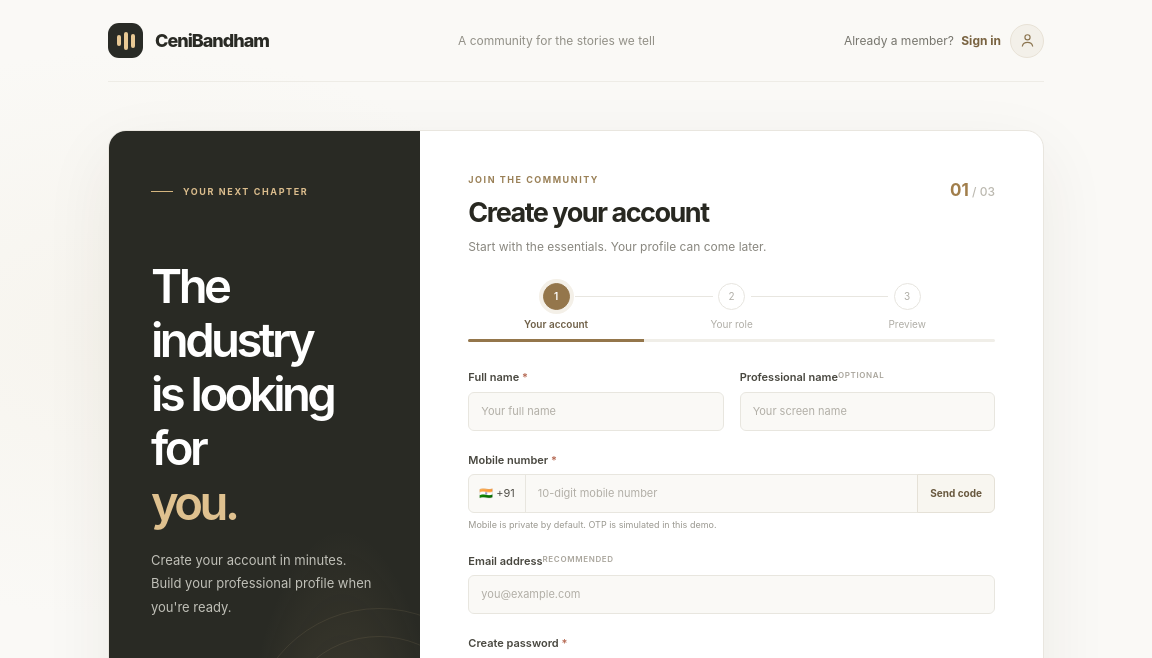
App routing › navigates from registration to login
Step 1. Click the link "Already a member? Sign in" → (944,40), box left=844, top=24, right=1044, bottom=58
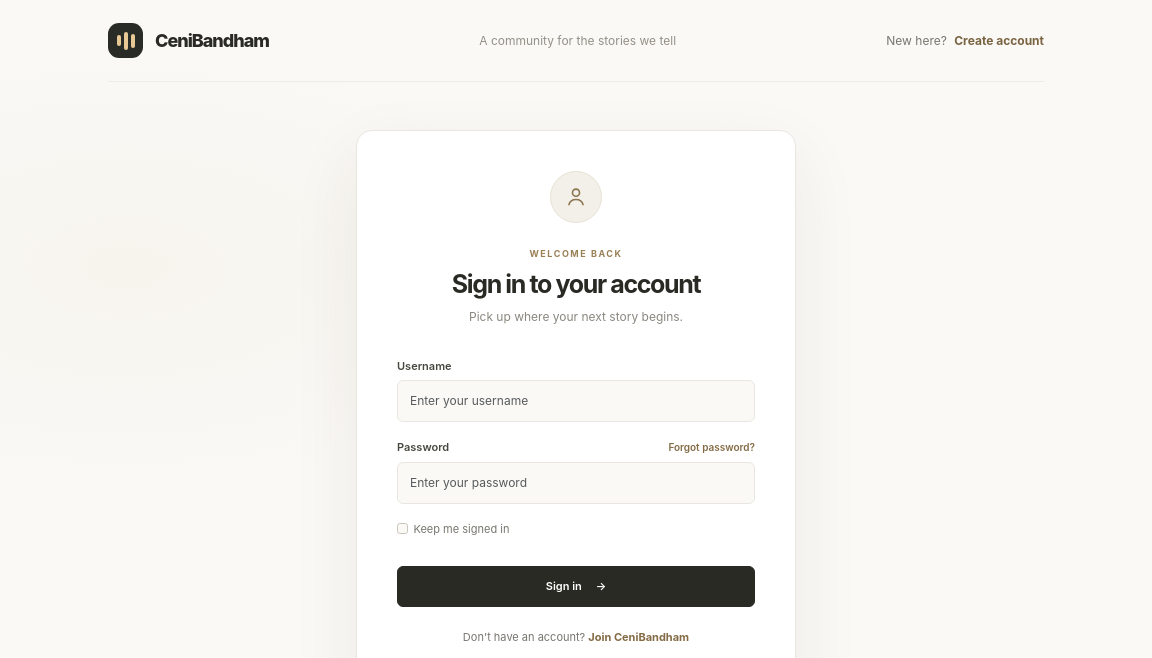
Now the heading "Sign in to your account" is shown, box left=452, top=268, right=700, bottom=298
